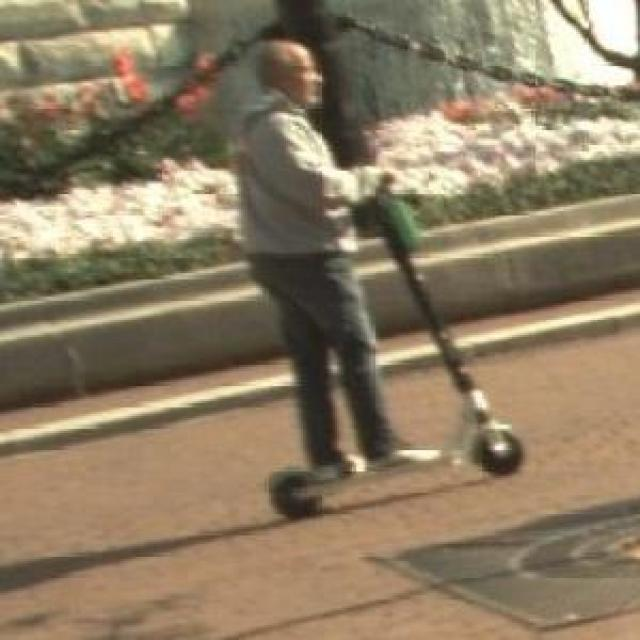pedestrian: (238, 41, 524, 522)
